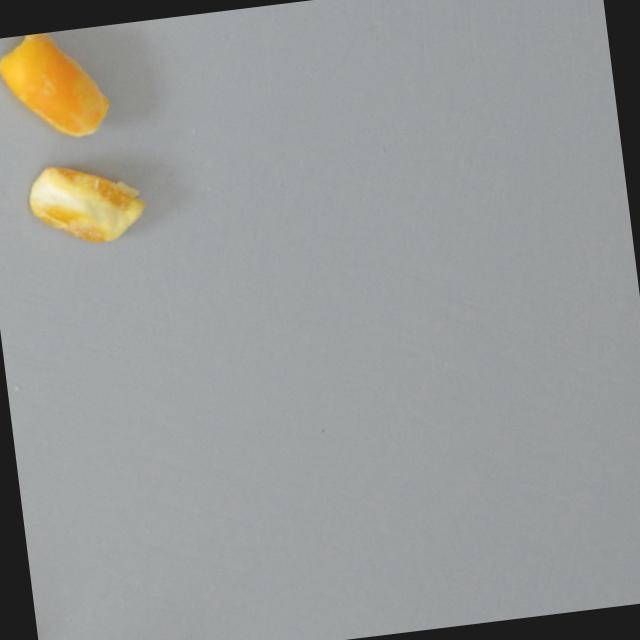pelicula: (21, 149, 155, 264), (0, 24, 116, 148)
